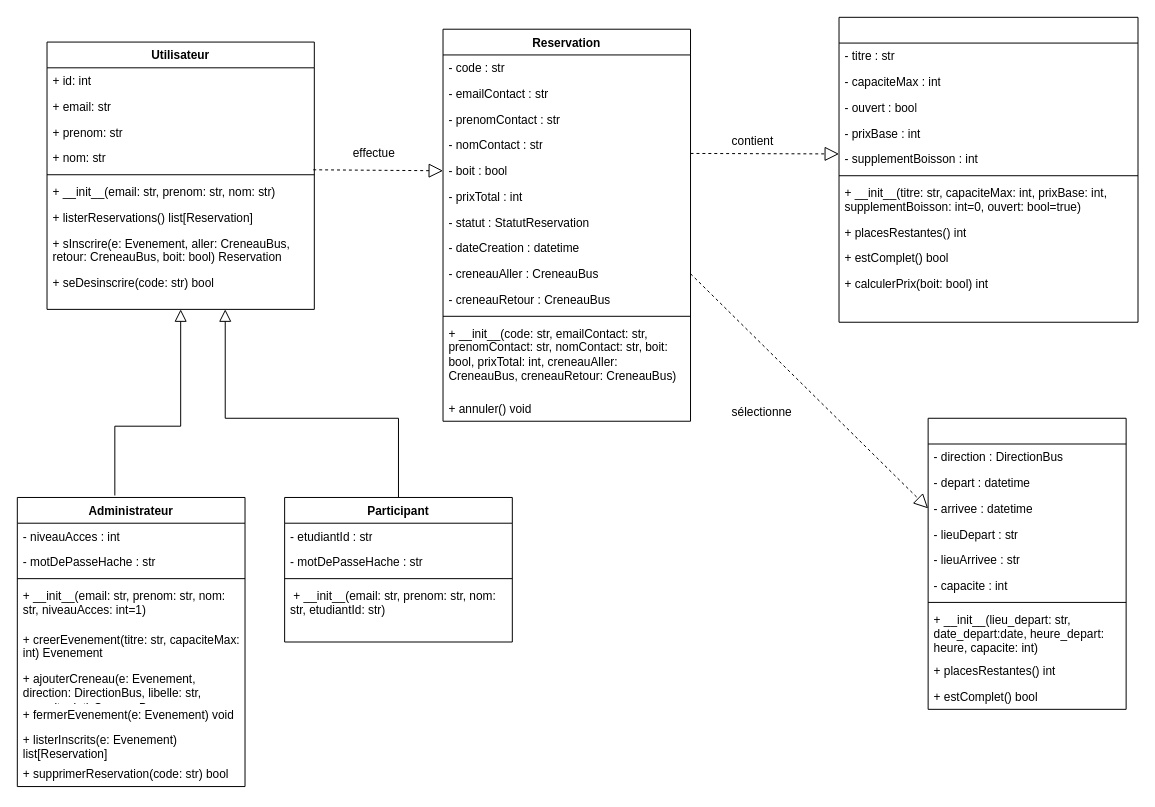
This 1155x807 diagram has some shape labels left out. The box of each missing label's shape, as (x1, y1, x2, y2) in pixels:
CreneauBus: (927, 417, 1126, 709)
Evenement: (838, 16, 1138, 322)
